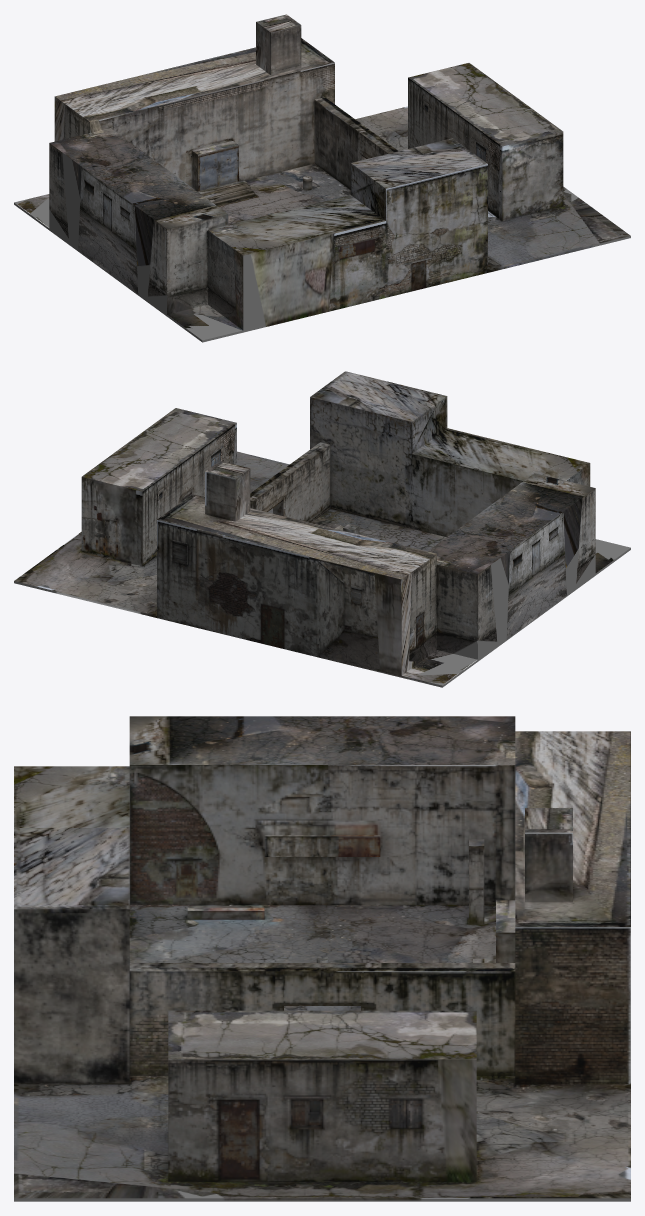
File: courtyard-muse.glb
The picture shows the model from 3 angles, top to bottom: view 1: azimuth 30°, elevation 25°; view 2: azimuth 150°, elevation 25°; view 3: azimuth 270°, elevation 25°; orthographic projection. The views are drawn at different scales.
Visible parts, largest first — view 1: courtyard; view 2: courtyard; view 3: courtyard.
Part boxes in pixels (x1=…): courtyard: x1=14, y1=14, x2=630, y2=342; courtyard: x1=14, y1=371, x2=630, y2=687; courtyard: x1=14, y1=716, x2=630, y2=1201.
Bounding box in the file's own units: 42 × 13.2 × 32.
Materials: 1 (1 with a texture image).
